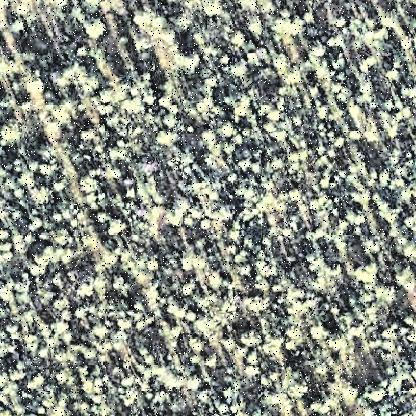tree-top: (66, 60, 104, 92), (274, 9, 306, 39), (225, 89, 253, 117), (307, 34, 334, 62), (37, 141, 61, 167), (83, 16, 107, 40), (302, 248, 326, 272), (177, 48, 202, 71), (73, 274, 99, 296), (24, 72, 46, 96), (116, 76, 138, 100), (1, 122, 21, 148), (171, 194, 193, 217), (248, 293, 272, 314), (357, 261, 379, 283), (246, 15, 268, 37), (112, 274, 134, 296), (223, 213, 245, 235), (156, 89, 178, 111), (363, 383, 386, 403), (179, 252, 202, 272), (219, 121, 241, 141), (31, 187, 53, 207), (100, 247, 122, 267), (18, 171, 40, 191), (51, 225, 73, 245), (376, 170, 394, 194), (226, 223, 246, 244), (349, 207, 370, 227), (243, 355, 264, 375), (11, 16, 33, 35), (189, 334, 209, 354), (241, 329, 261, 349), (143, 256, 164, 275), (203, 1, 227, 17), (340, 382, 360, 401), (310, 223, 328, 244), (109, 219, 129, 237), (311, 322, 331, 340), (204, 352, 224, 370), (283, 336, 303, 354), (81, 234, 101, 252), (305, 83, 321, 105), (29, 372, 48, 390), (30, 259, 49, 277), (179, 280, 197, 298), (29, 214, 47, 232), (50, 177, 68, 195), (333, 136, 351, 154), (92, 321, 111, 338), (243, 363, 262, 380), (139, 68, 155, 88), (384, 65, 402, 82), (71, 306, 89, 322), (53, 368, 71, 384), (116, 316, 134, 332), (235, 2, 263, 12), (53, 294, 69, 310), (189, 374, 205, 390), (255, 259, 271, 275), (1, 224, 15, 242), (403, 82, 416, 98), (125, 187, 139, 201), (8, 323, 22, 337), (215, 403, 229, 416), (1, 403, 13, 415)
